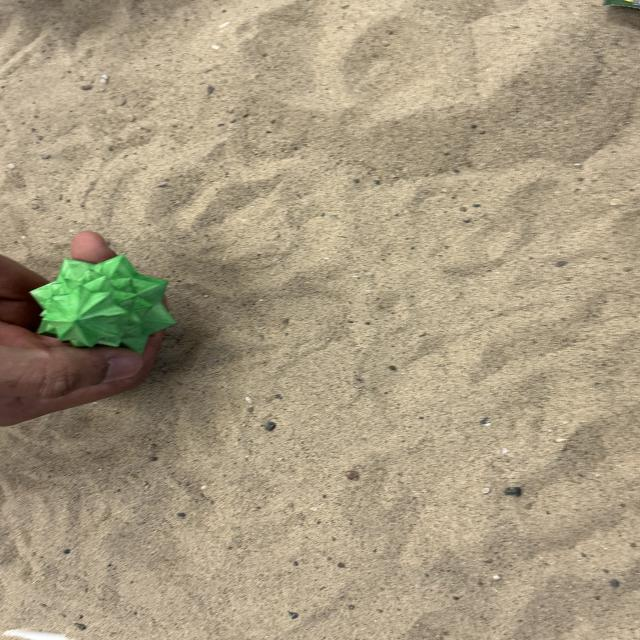tree: (28, 253, 176, 355)
